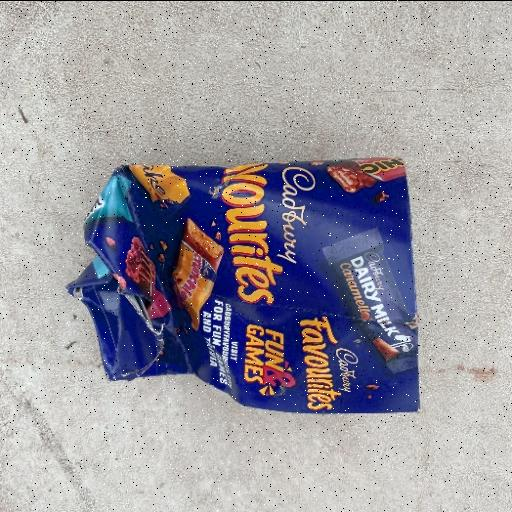Cardboard: (66, 156, 420, 416)
